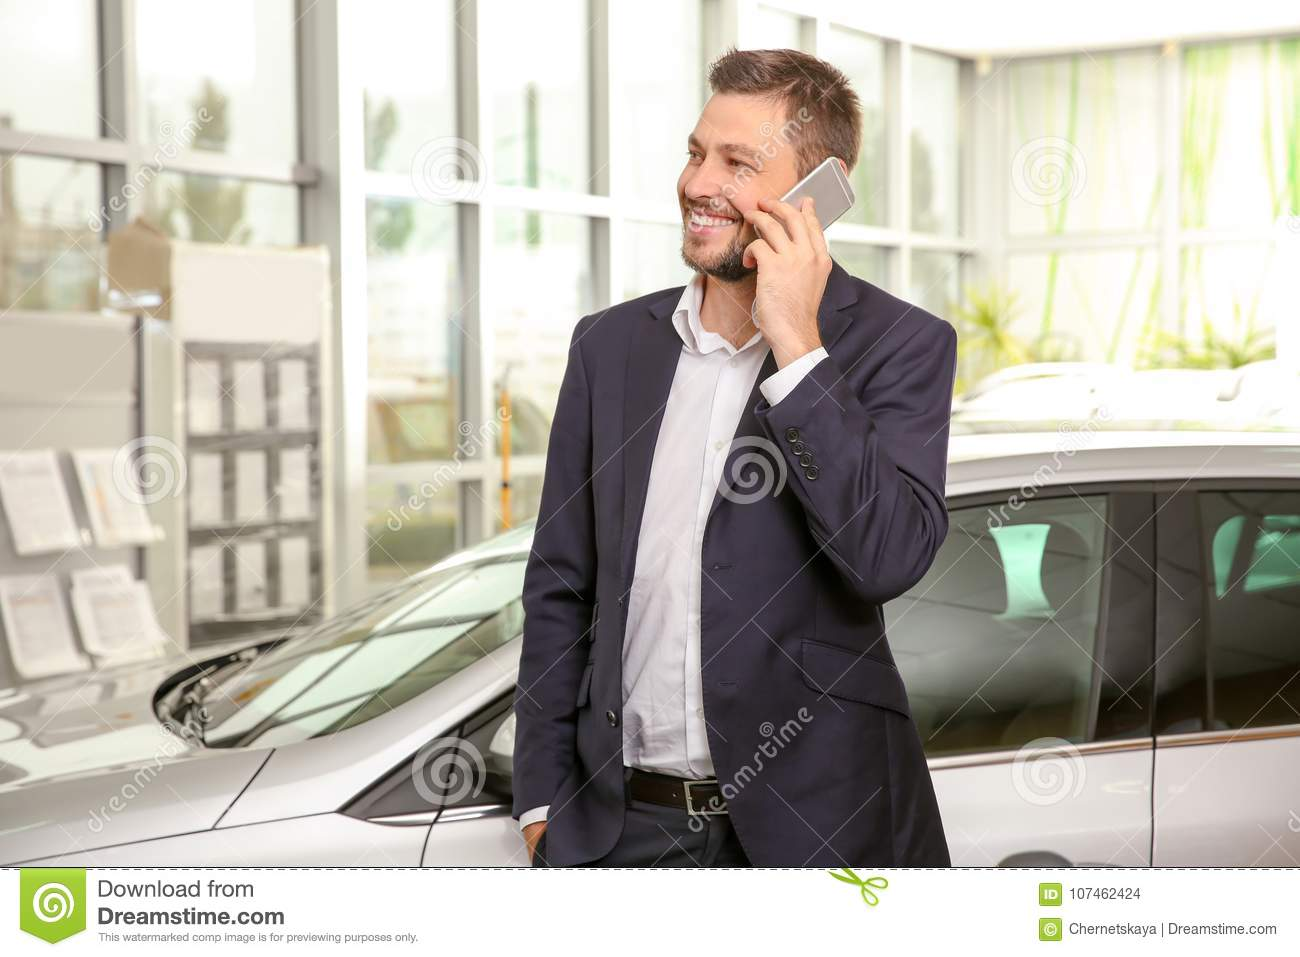phone: (751, 152, 856, 255)
talk: (675, 125, 861, 361)
